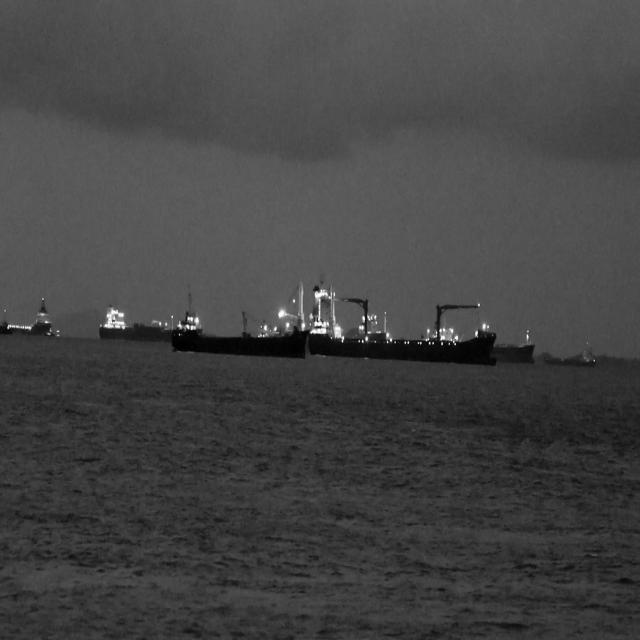ship: (307, 280, 496, 364), (170, 279, 307, 355), (97, 300, 170, 340), (1, 292, 51, 336), (492, 325, 534, 364), (544, 342, 598, 368), (44, 326, 56, 341)
